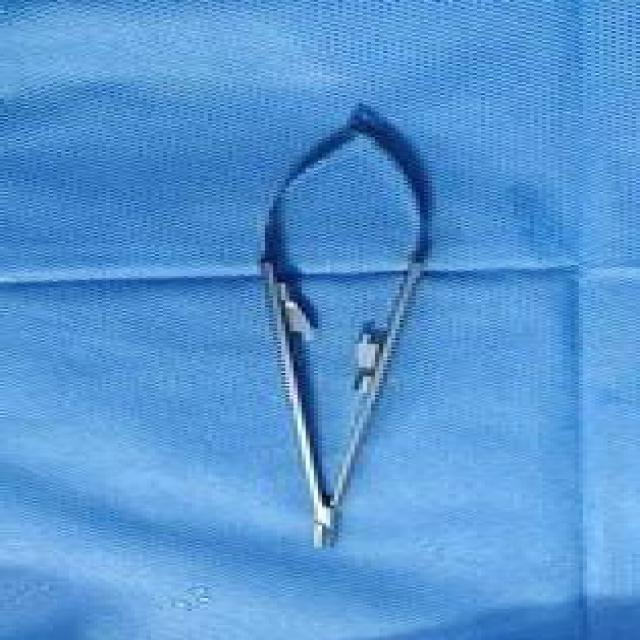Castroviejo: (245, 104, 452, 556)
